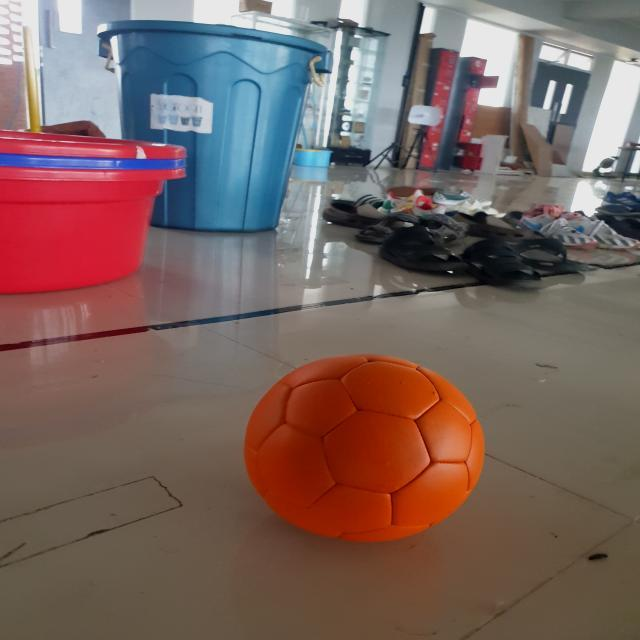bola: (238, 348, 489, 554)
